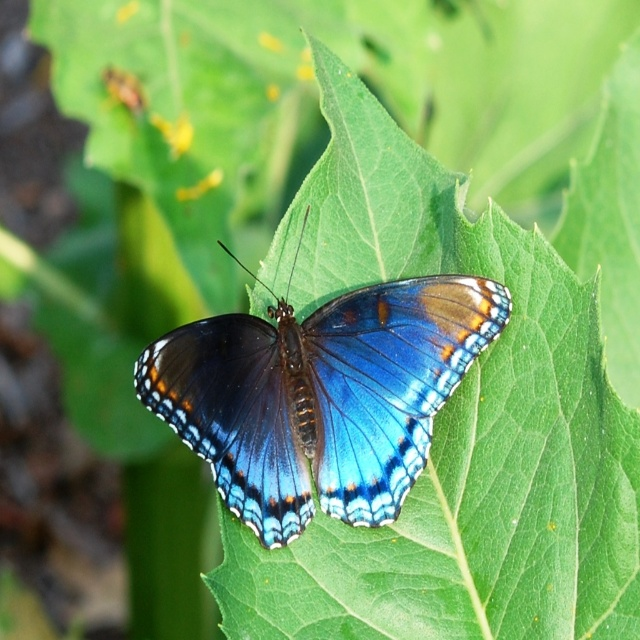Butterfly: (129, 191, 528, 551)
